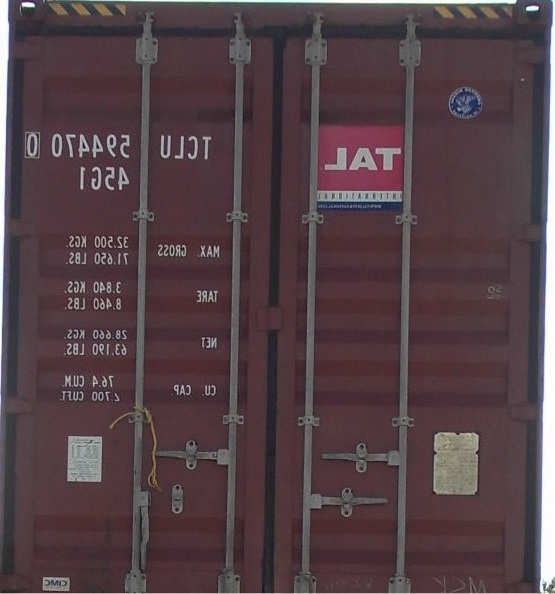container_door: (12, 11, 531, 582)
